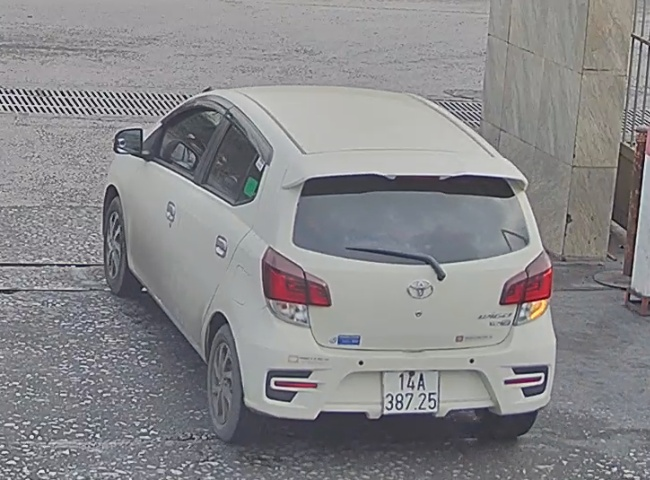vehicle plate: (378, 364, 440, 421)
